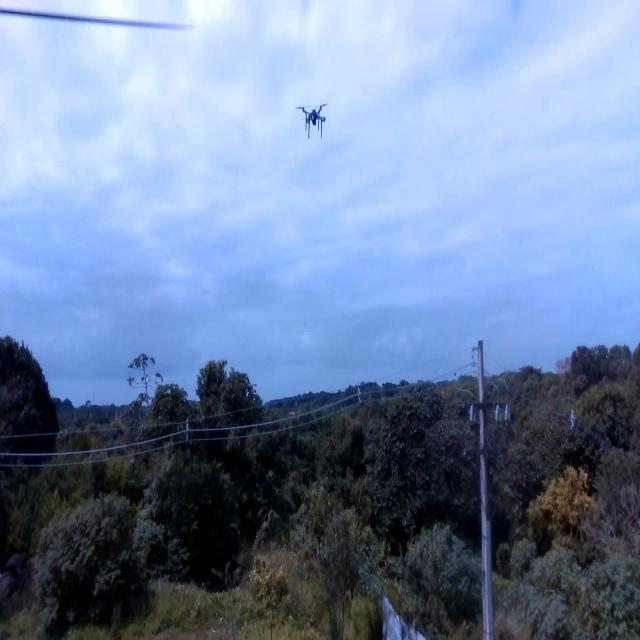-uav-: (293, 95, 332, 145)
